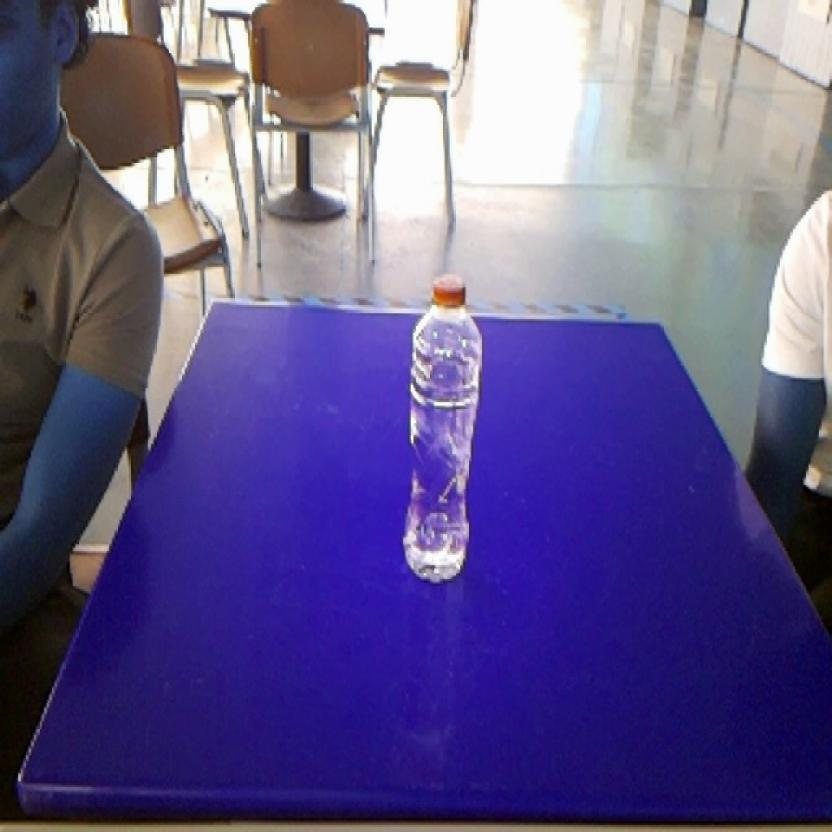no_label: (395, 260, 489, 592)
